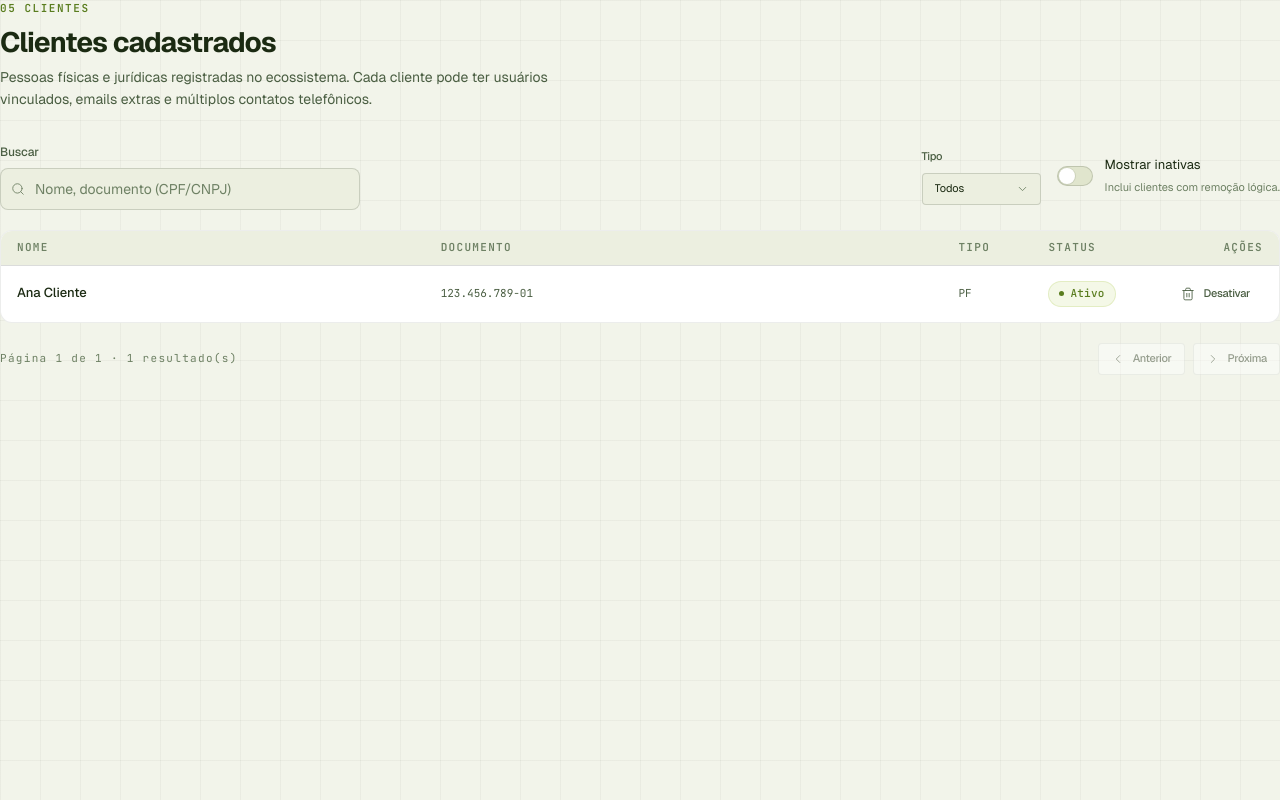
ClientsListShellPage — desativar (Issue #76) › tratamento de erros do backend › mapeia 404 (cliente já removido) fecha modal, exibe toast e dispara refetch
Click the button "Desativar": (1216, 294) [1168, 278, 1263, 310]
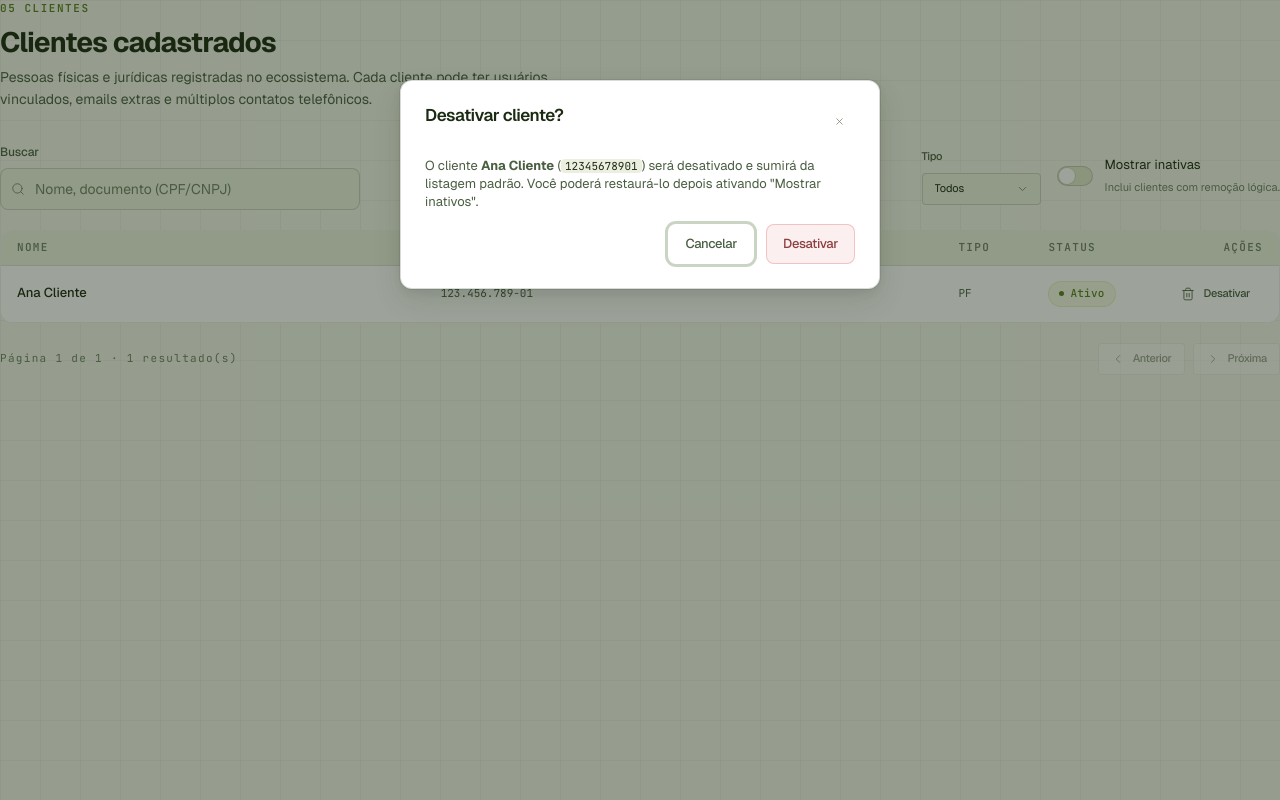
Click the button with test id "delete-client-confirm": (810, 244) [766, 224, 855, 264]
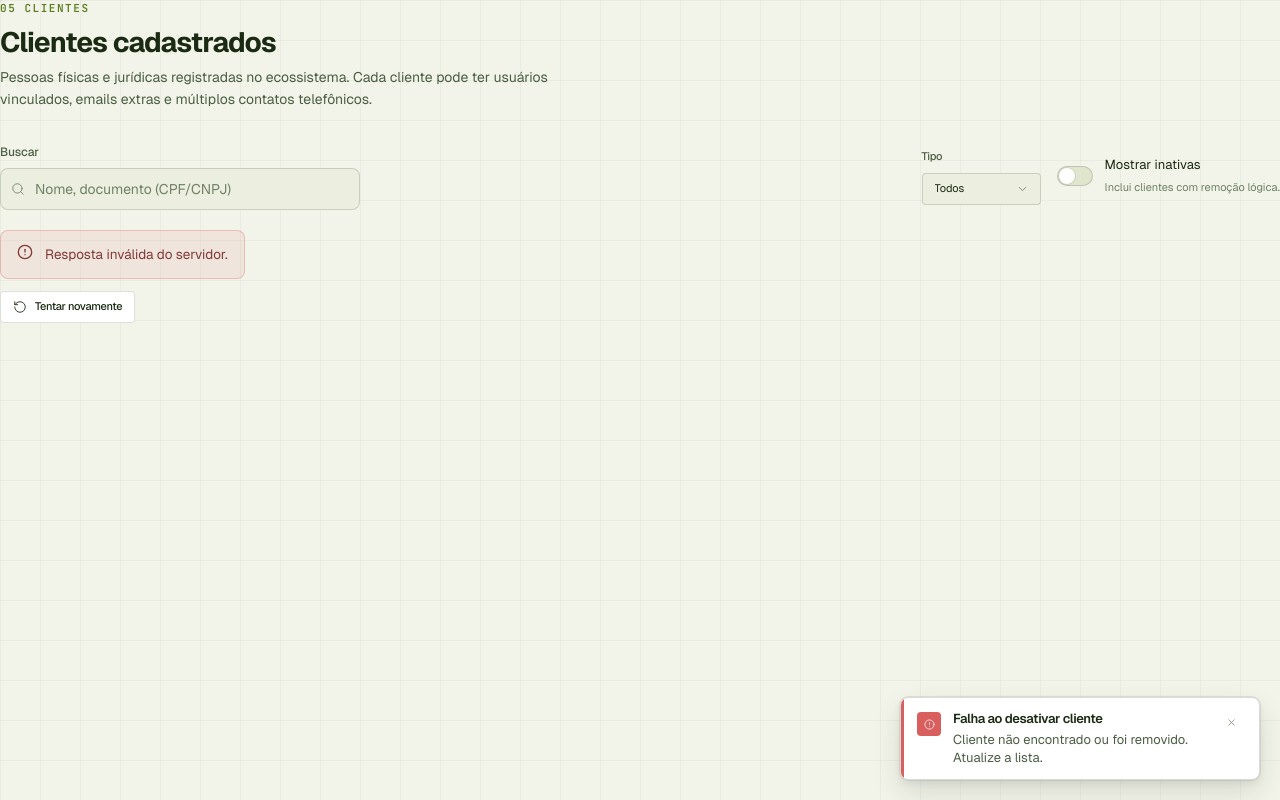
Result: the dialog is gone
